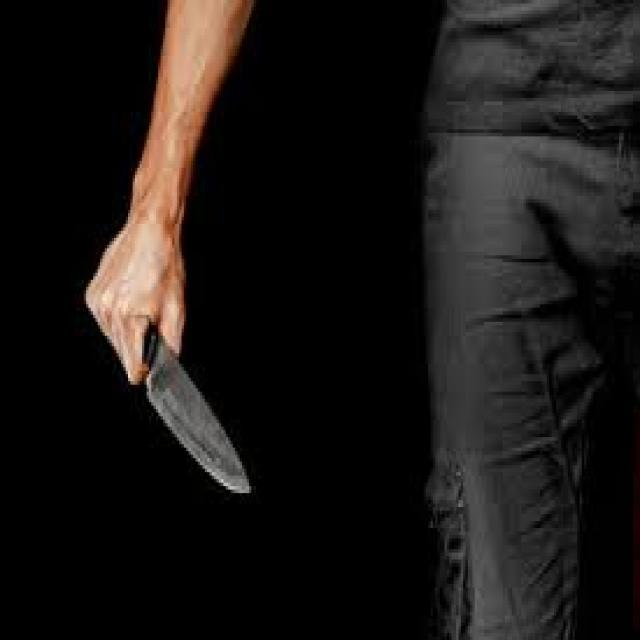faca: (77, 216, 260, 504)
